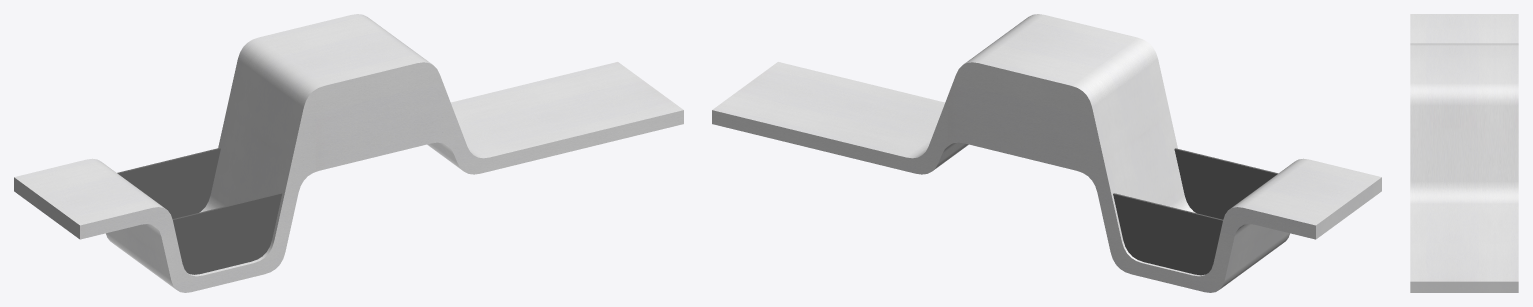
The model's file is Shelves.fbx.
3 views of the same model, side by side, from view 1: azimuth 30°, elevation 25°; view 2: azimuth 150°, elevation 25°; view 3: azimuth 270°, elevation 25° (orthographic). The views are drawn at different scales.
Parts seen in each view (by area): view 1: shelves_body001, shelves_glass_front001, shelves_glass_back001; view 2: shelves_body001, shelves_glass_back001, shelves_glass_front001; view 3: shelves_body001.
Boxes of the visible parts, box(x1,y1,x2,y2) form: shelves_body001: box(14, 14, 683, 292); shelves_glass_front001: box(172, 192, 282, 274); shelves_glass_back001: box(117, 148, 220, 219); shelves_body001: box(712, 14, 1381, 292); shelves_glass_back001: box(1113, 193, 1222, 275); shelves_glass_front001: box(1174, 148, 1277, 219); shelves_body001: box(1410, 14, 1518, 292).
Bounding box in the file's own units: 103 × 19.56 × 28.43.
2 materials, 1 textured.
